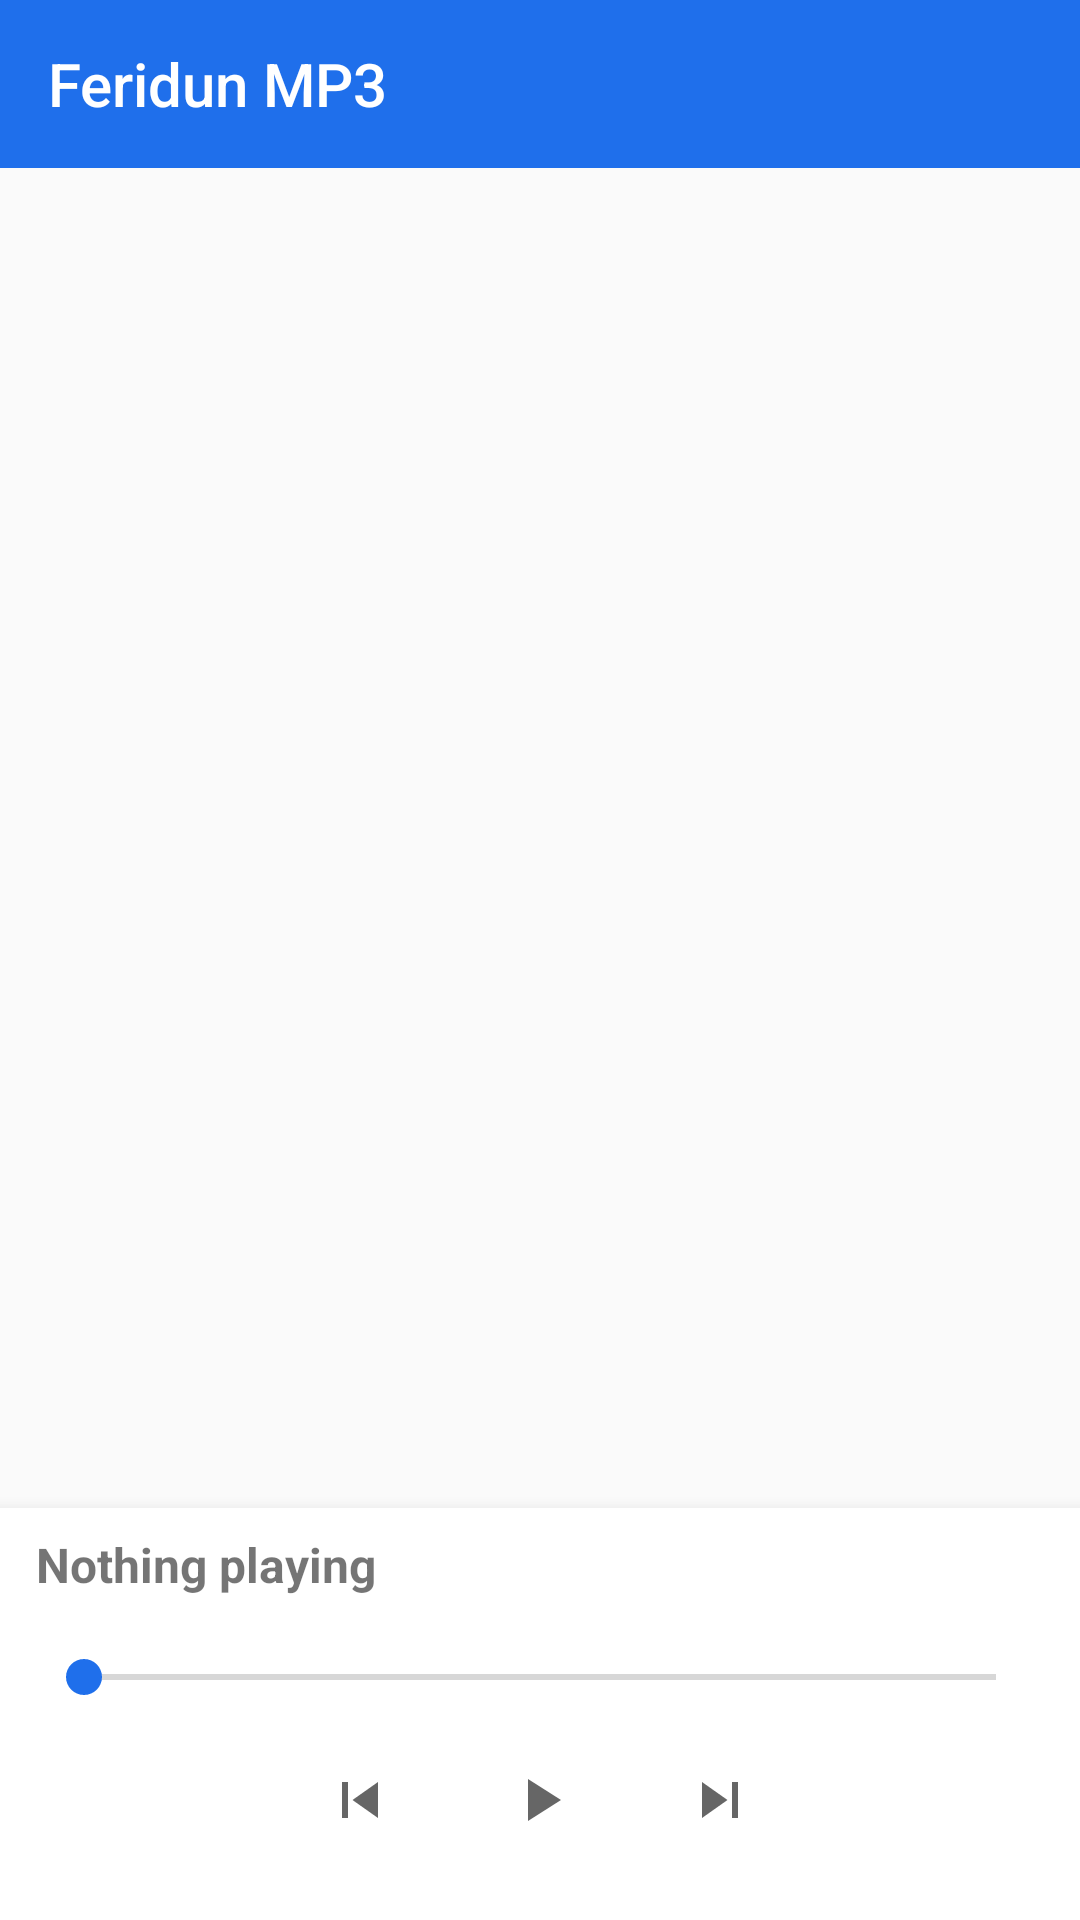

Named icons in this screenshot (1080 × 1920) and their centers, (x,y):
Next: (720,1800)
Previous: (360,1800)
